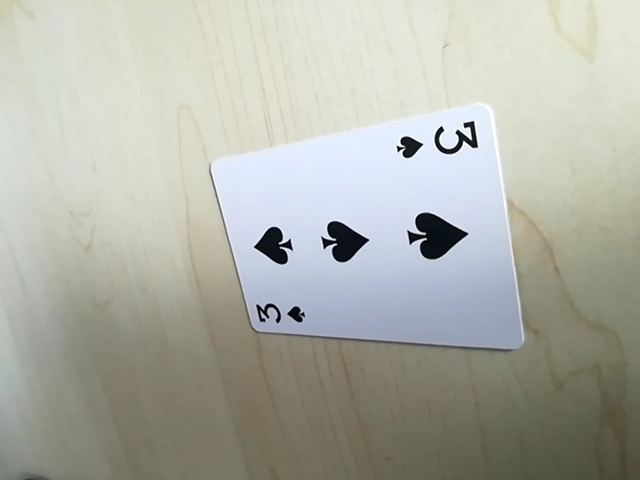ht 3: (393, 117, 485, 165), (248, 298, 313, 332)
